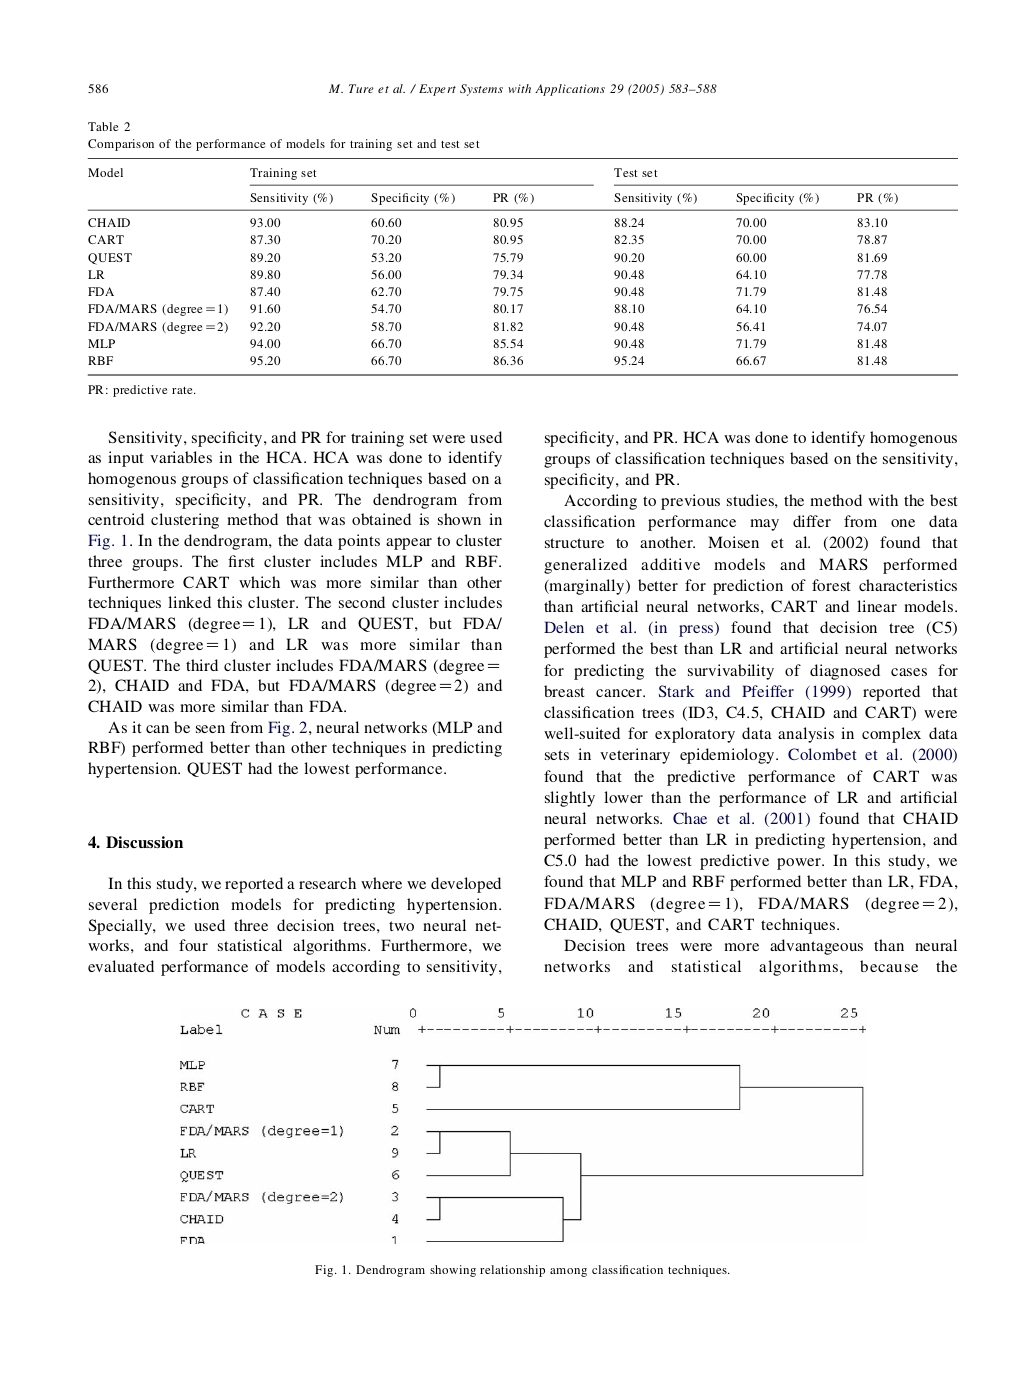Table: (87, 158, 957, 375)
figure: (180, 1008, 865, 1243)
